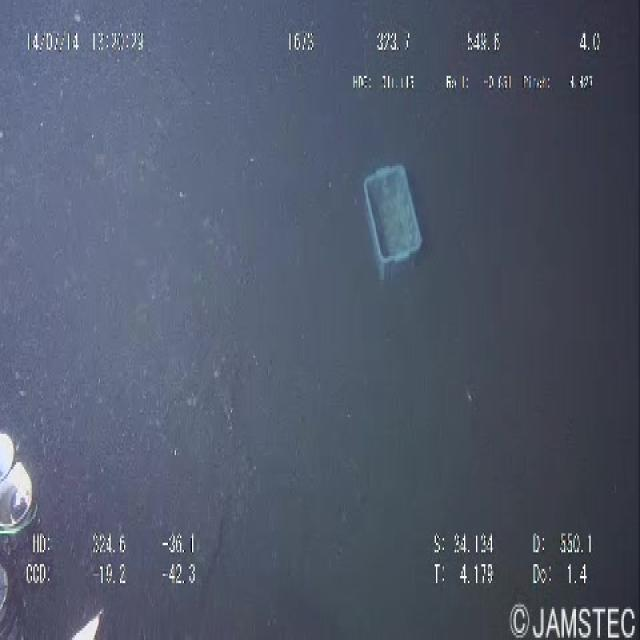plastic: (352, 128, 433, 294)
